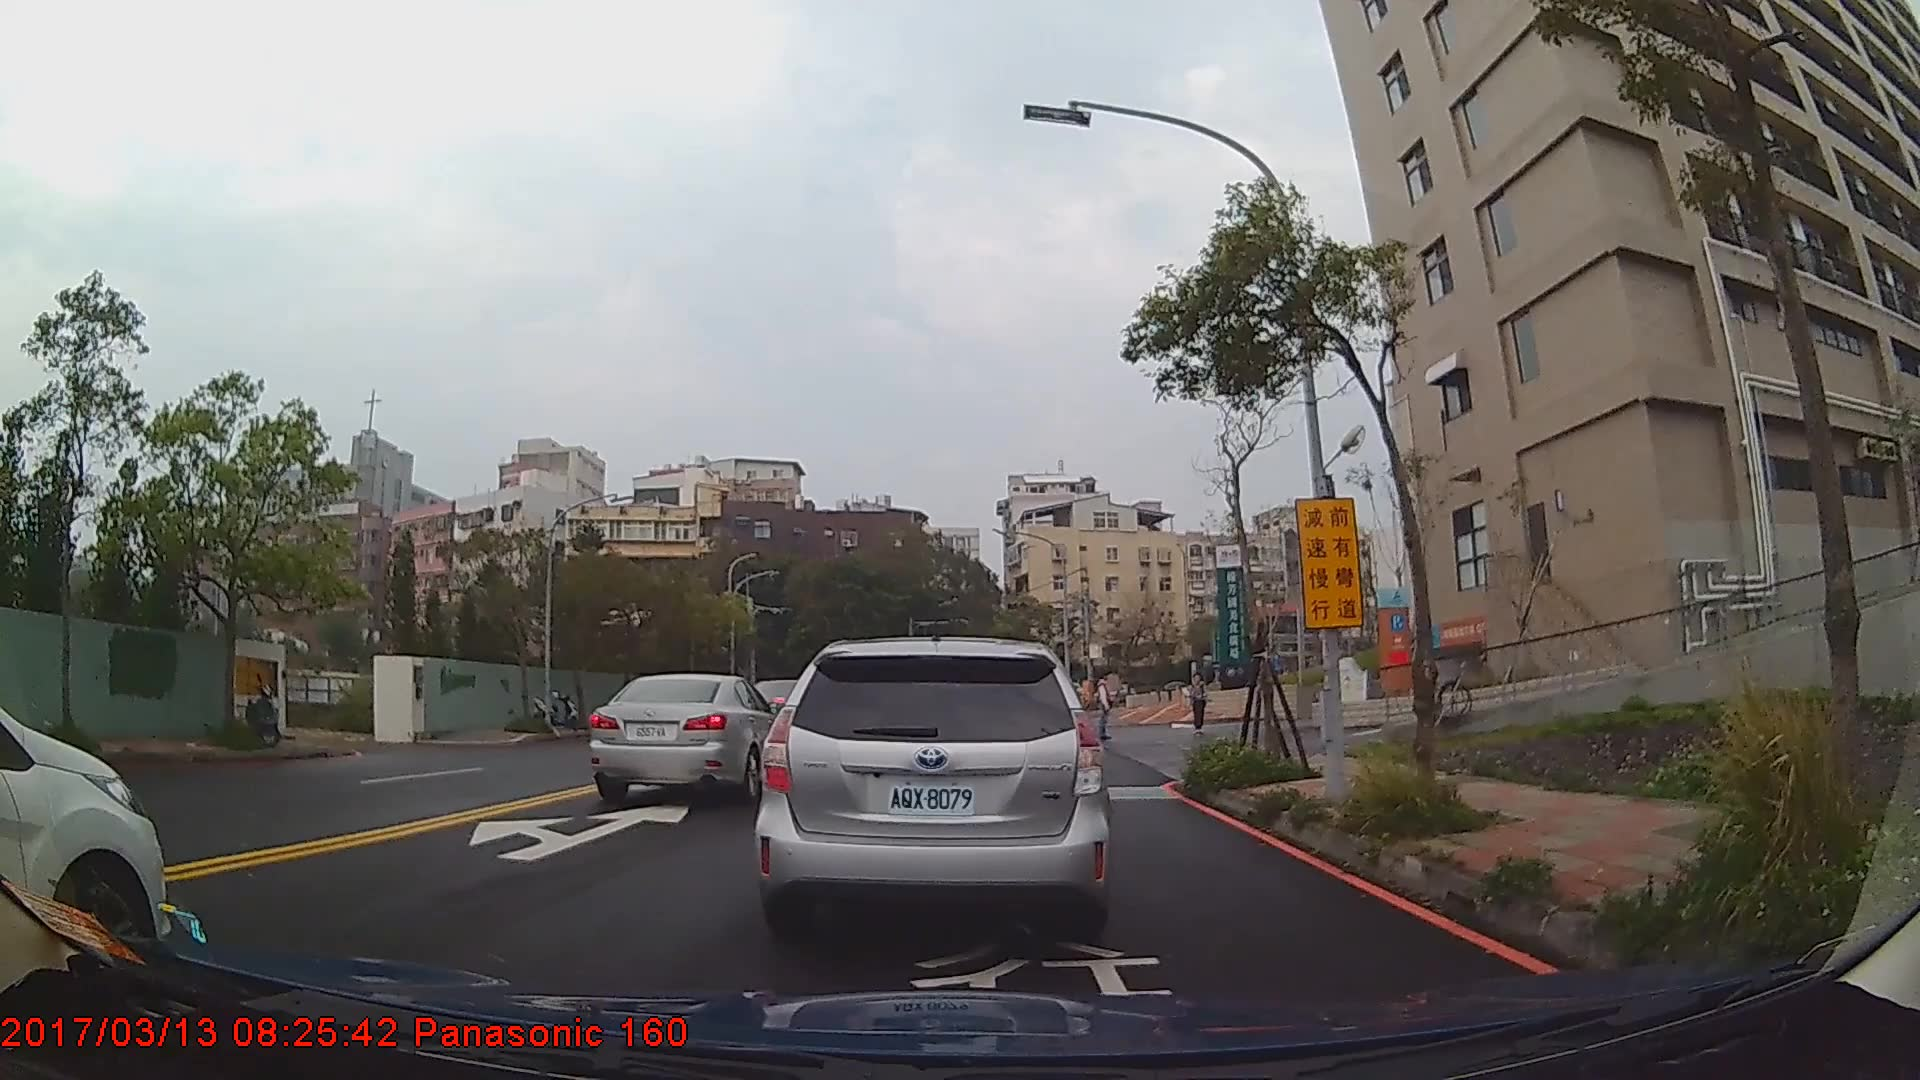pedestrian: (1095, 667, 1118, 743), (1189, 674, 1209, 735)
vehicle: (755, 638, 1112, 947), (0, 696, 169, 972), (584, 672, 785, 805)
